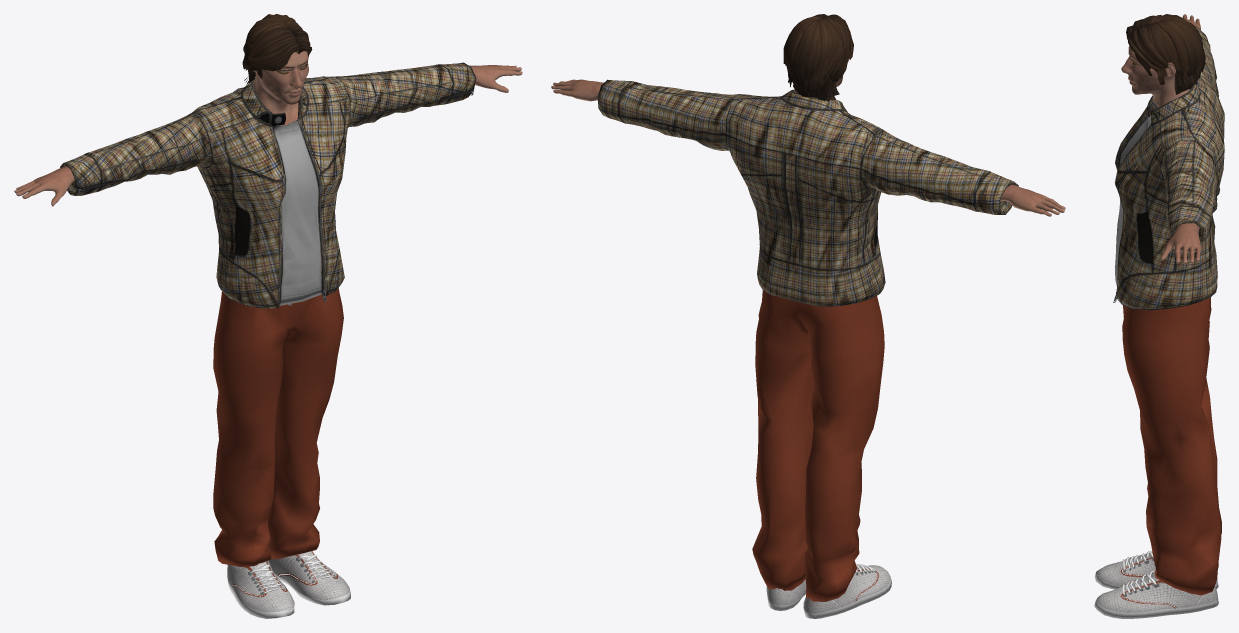
File: MarianoEdited1.fbx
The picture shows the model from 3 angles, left to right: view 1: azimuth 30°, elevation 25°; view 2: azimuth 150°, elevation 25°; view 3: azimuth 270°, elevation 25°; orthographic projection.
Visible parts, largest first — view 1: Mariano; view 2: Mariano; view 3: Mariano.
Boxes of the visible parts, x1,y1,x2,y2 form: Mariano: [14, 14, 522, 618]; Mariano: [551, 14, 1065, 618]; Mariano: [1094, 14, 1224, 618].
Size of the model in its own units: 18082 by 19478 by 3983.
5 materials, 5 textured.
